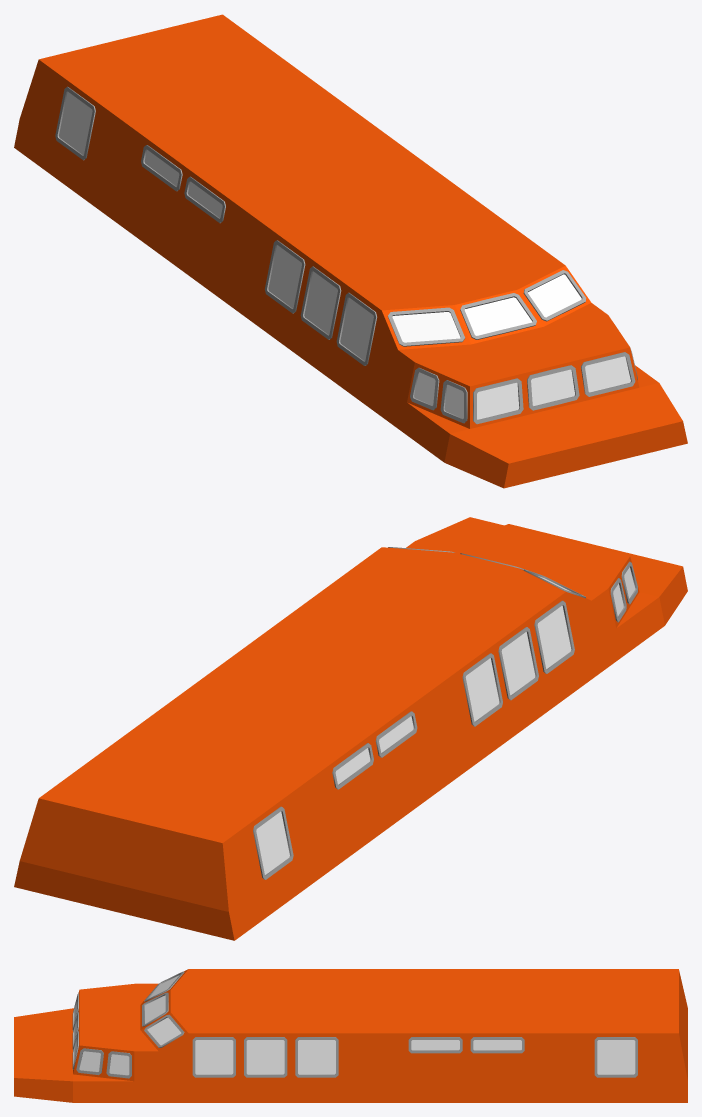
The model's file is cap.glb.
3 views of the same model, one above another, from view 1: azimuth 30°, elevation 25°; view 2: azimuth 150°, elevation 25°; view 3: azimuth 270°, elevation 25° (orthographic). The views are drawn at different scales.
Visible parts, largest first — view 1: cap.001; view 2: cap.001; view 3: cap.001.
Part boxes in pixels (x1,y1,x2,y2): cap.001: [14, 14, 687, 488]; cap.001: [14, 517, 687, 940]; cap.001: [14, 969, 687, 1102].
Size of the model in its own units: 3.02 by 1.16 by 11.19.
